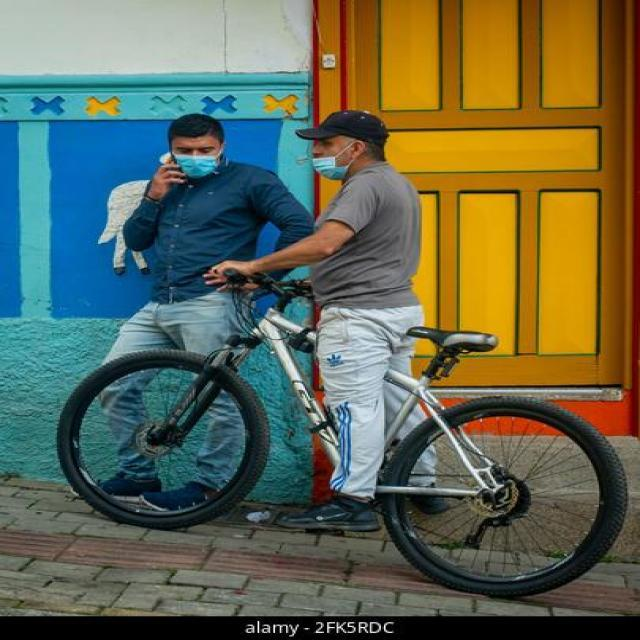No helmet: (292, 101, 406, 199)
